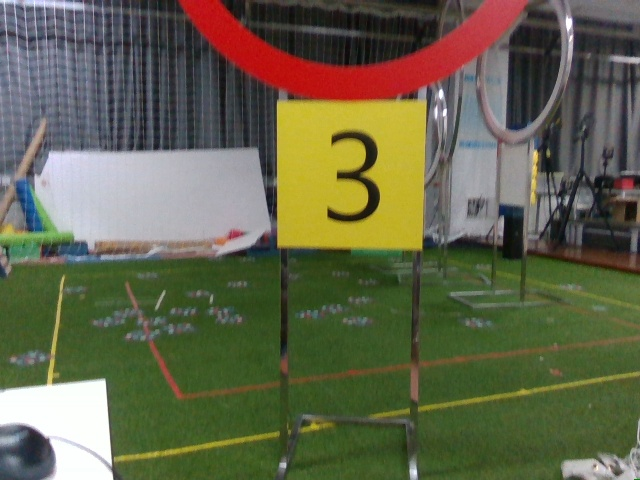target: (290, 102, 409, 254)
